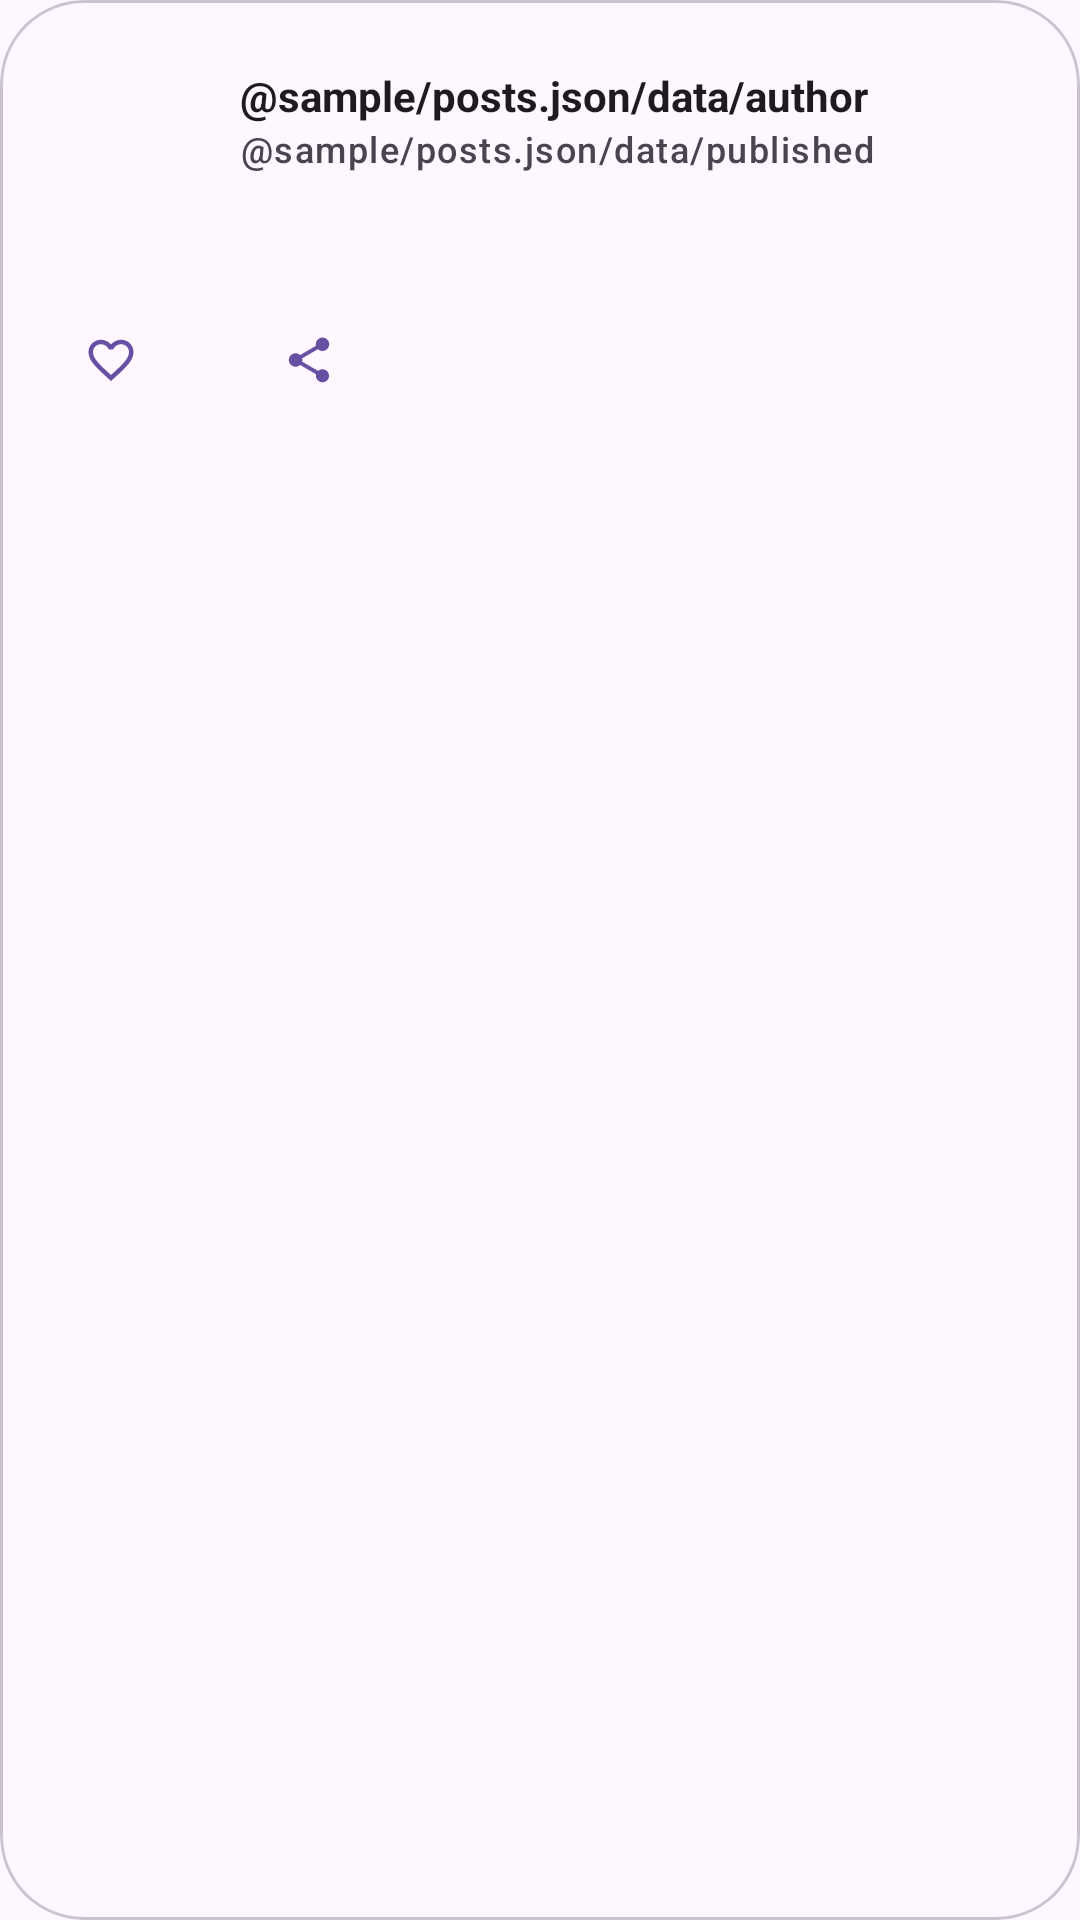

Icons on this 1080*1920 Android screen, each with the point to tap as point (x, y):
Post likes: point (111, 360)
Post share: point (309, 360)
